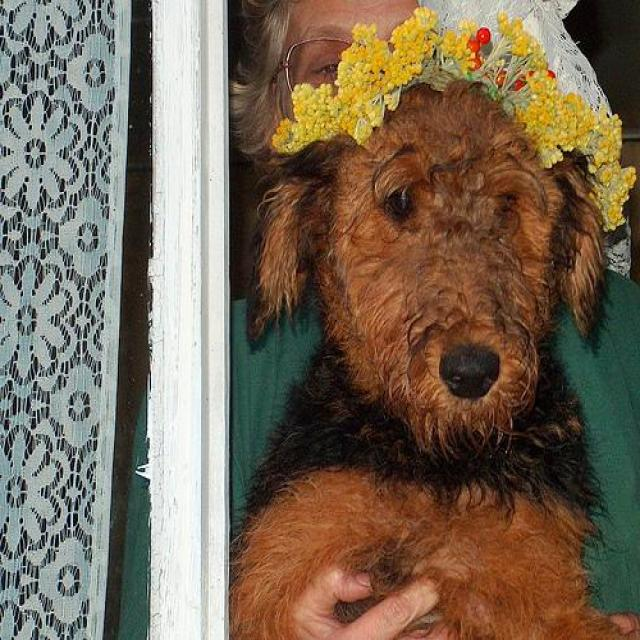airedale: (232, 81, 628, 637)
